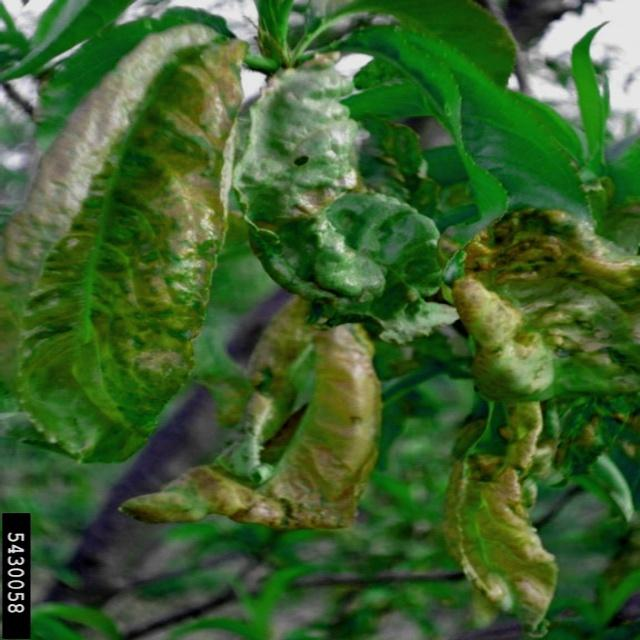leaf_curl: (3, 11, 251, 476)
